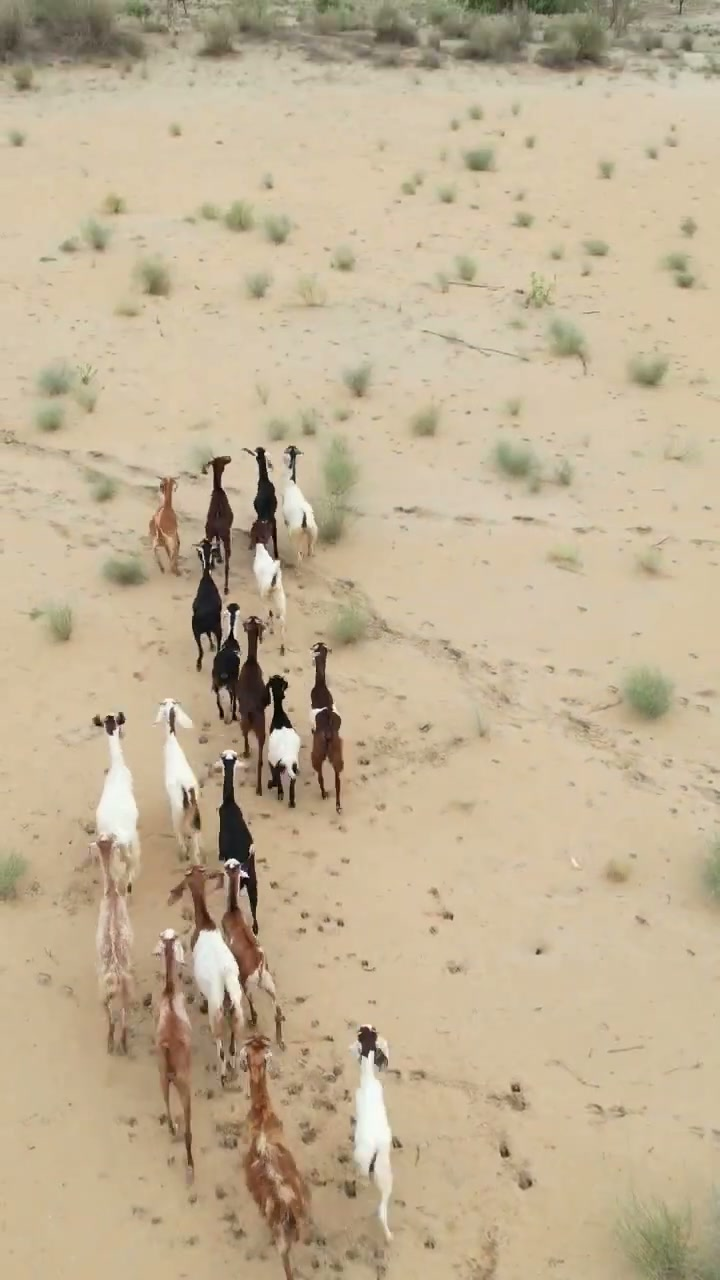animal_footprint: (264, 804, 382, 1265), (103, 1101, 282, 1271)
